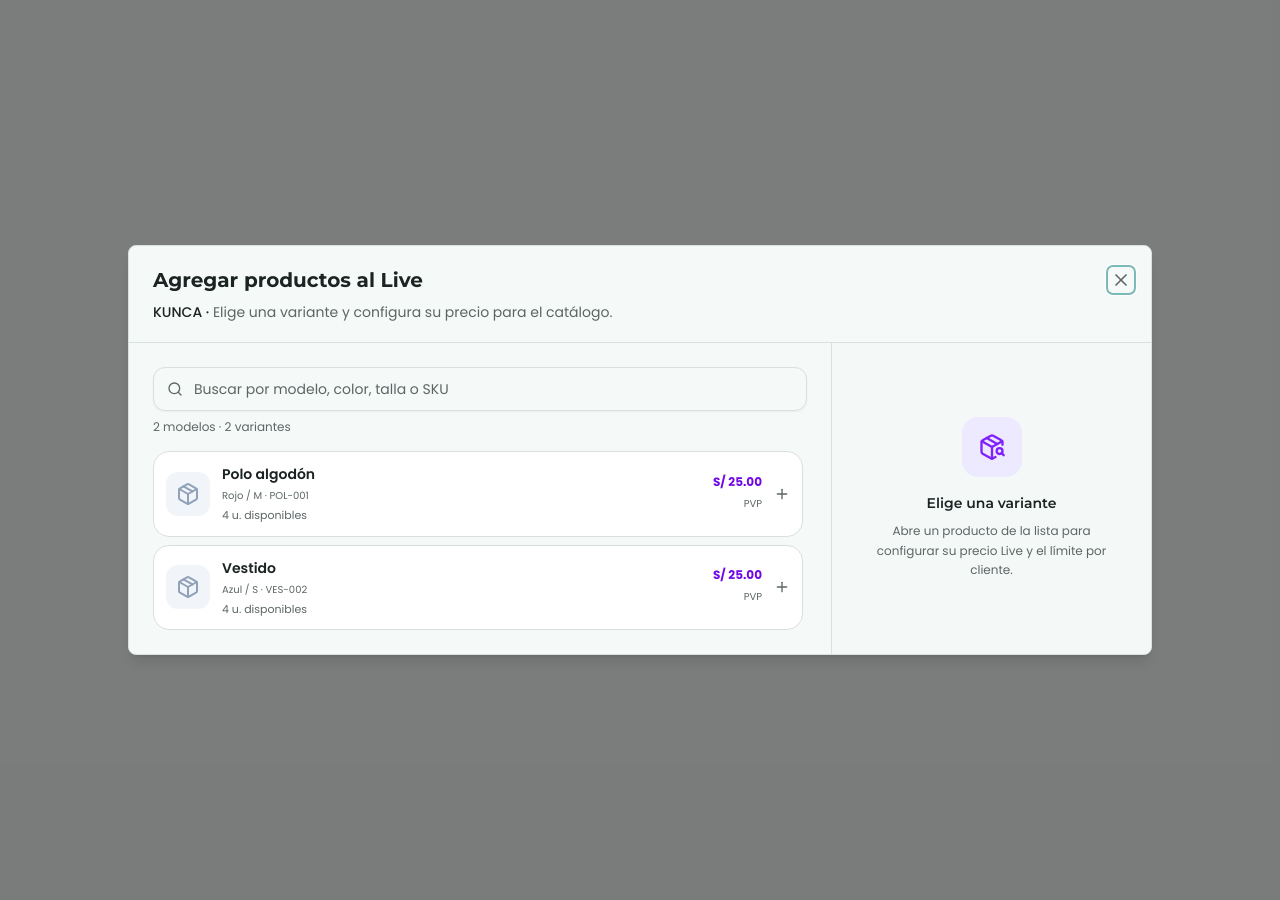
Test: failed save preserves drafts and offers another attempt
The width and height of the screenshot is (1280, 900).
Click the button with aria-label "Configurar Polo algodón, Rojo".
click(188, 494)  # box [154,452,802,536]
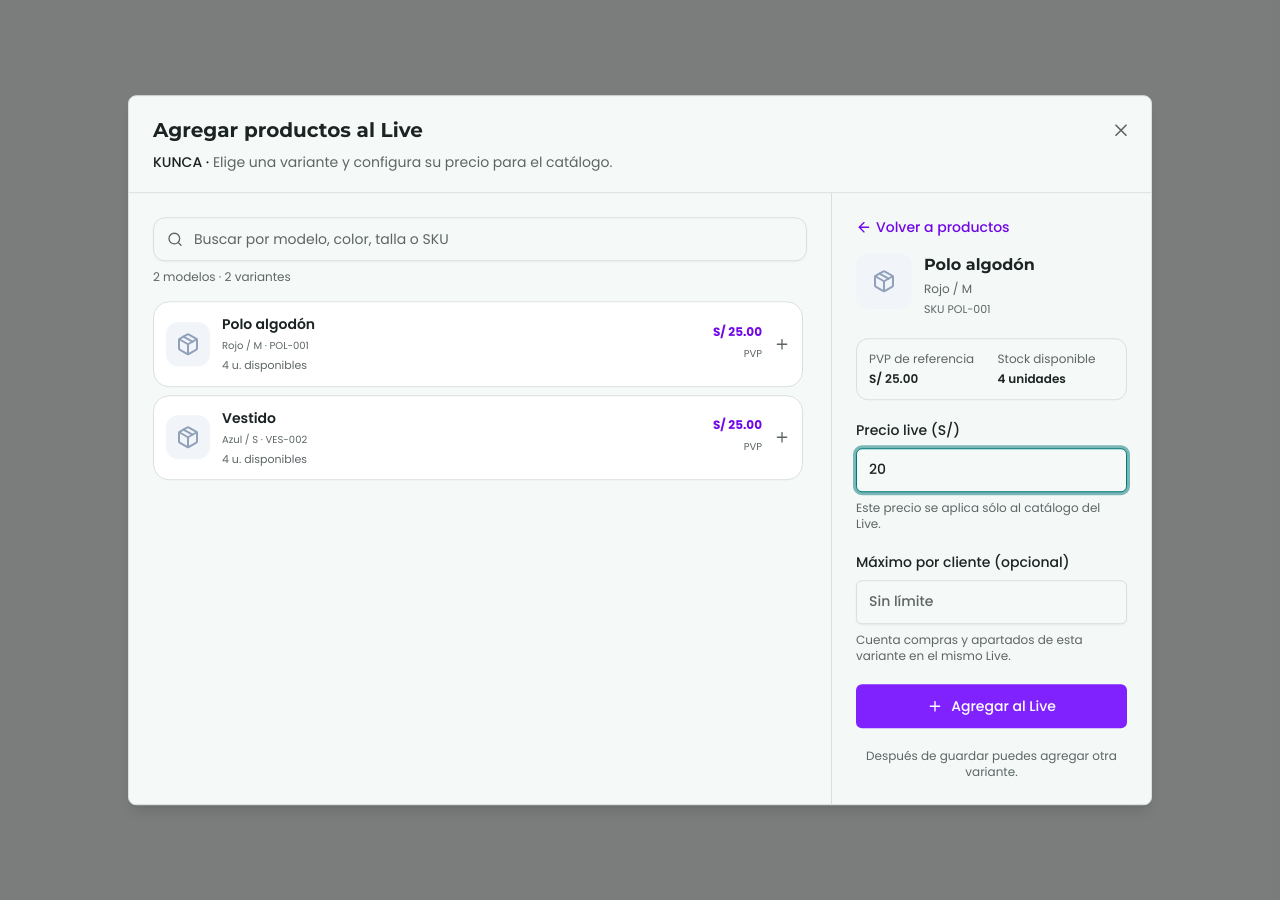
Replace the text in the number field labelled "Precio live" with "19.30" at (992,470), box [856,448,1127,492]
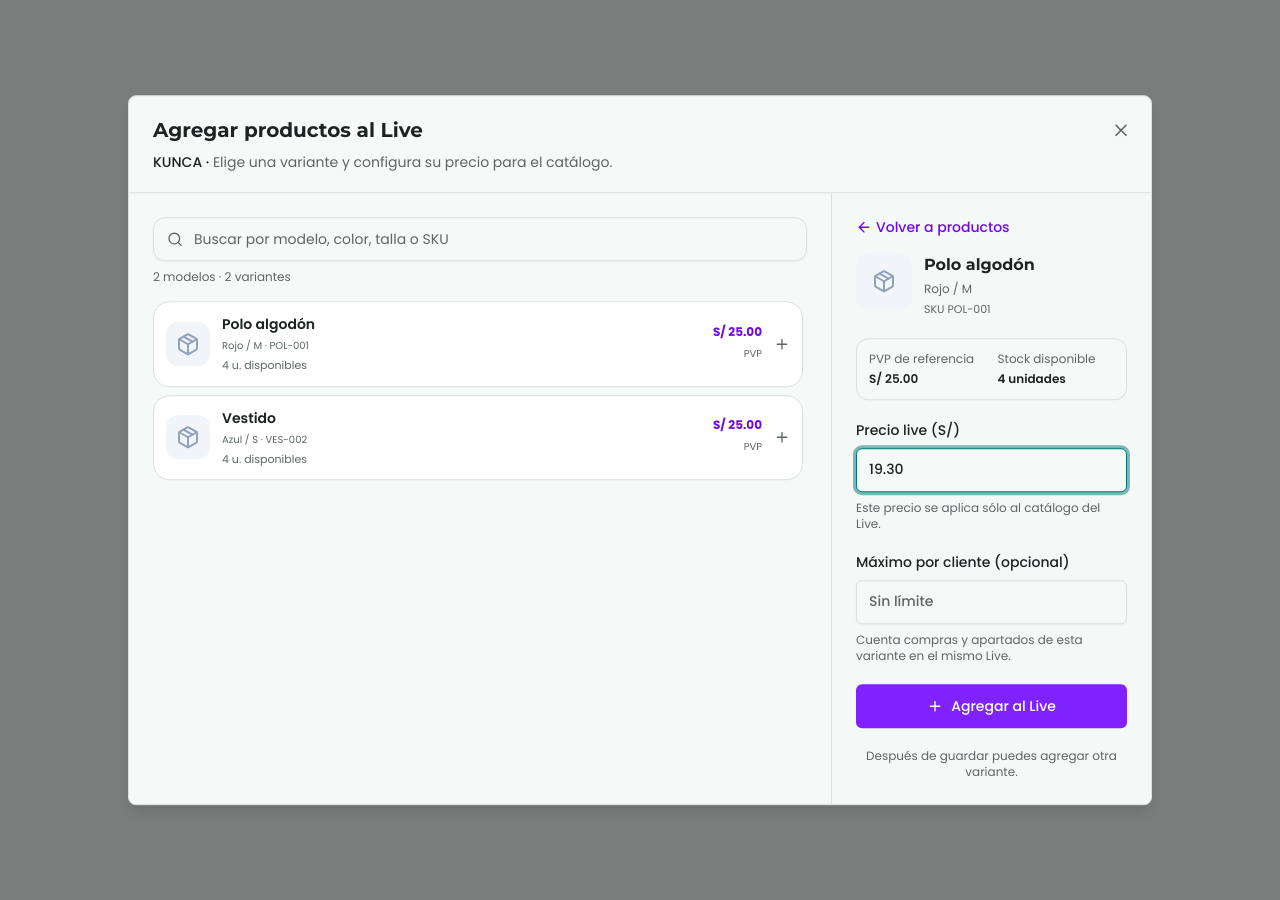
Type "3" into the number field labelled "Máximo por cliente".
click(992, 602); type("3")  # box [856,580,1127,624]
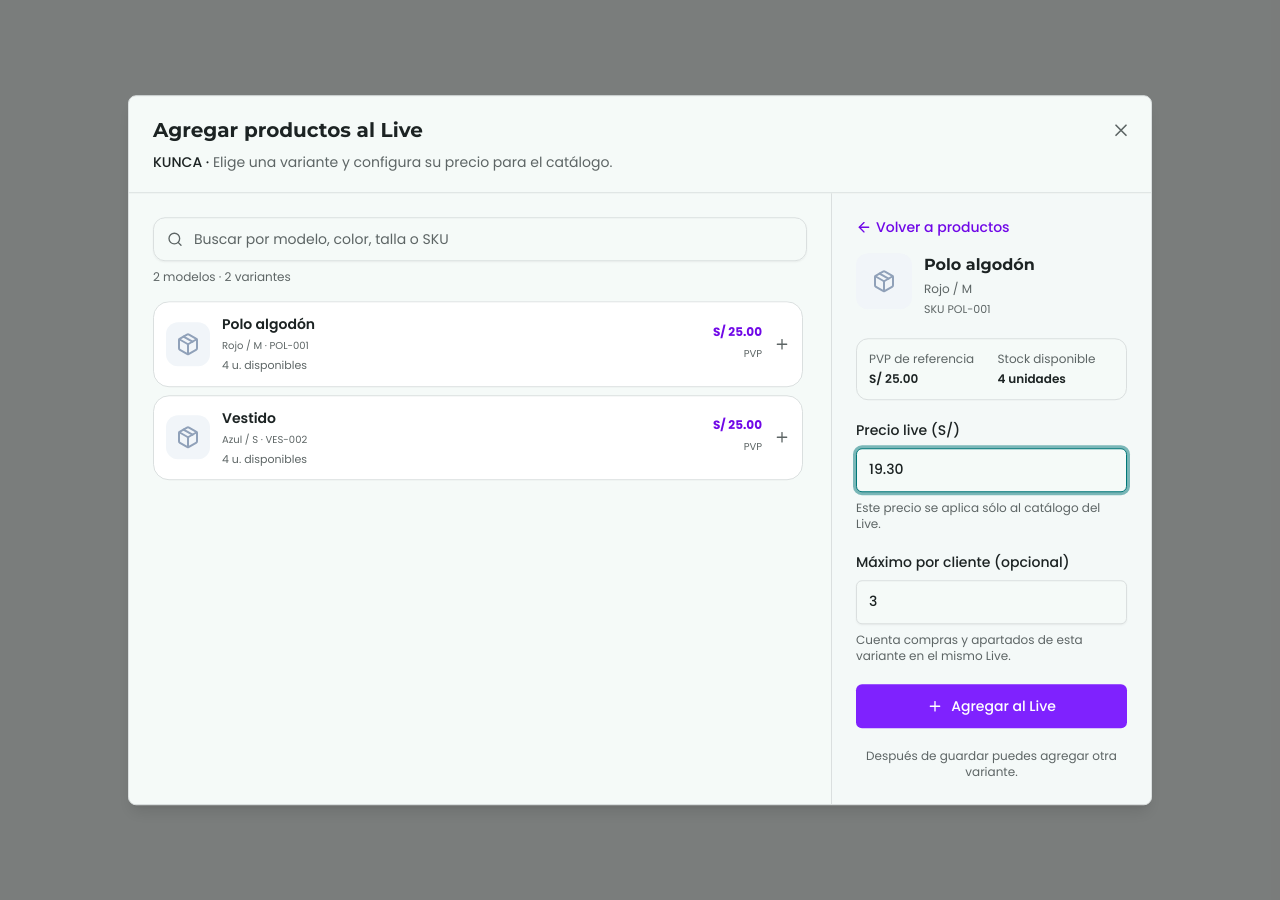
Click the button "Agregar al Live".
click(992, 706)  # box [856,684,1127,728]
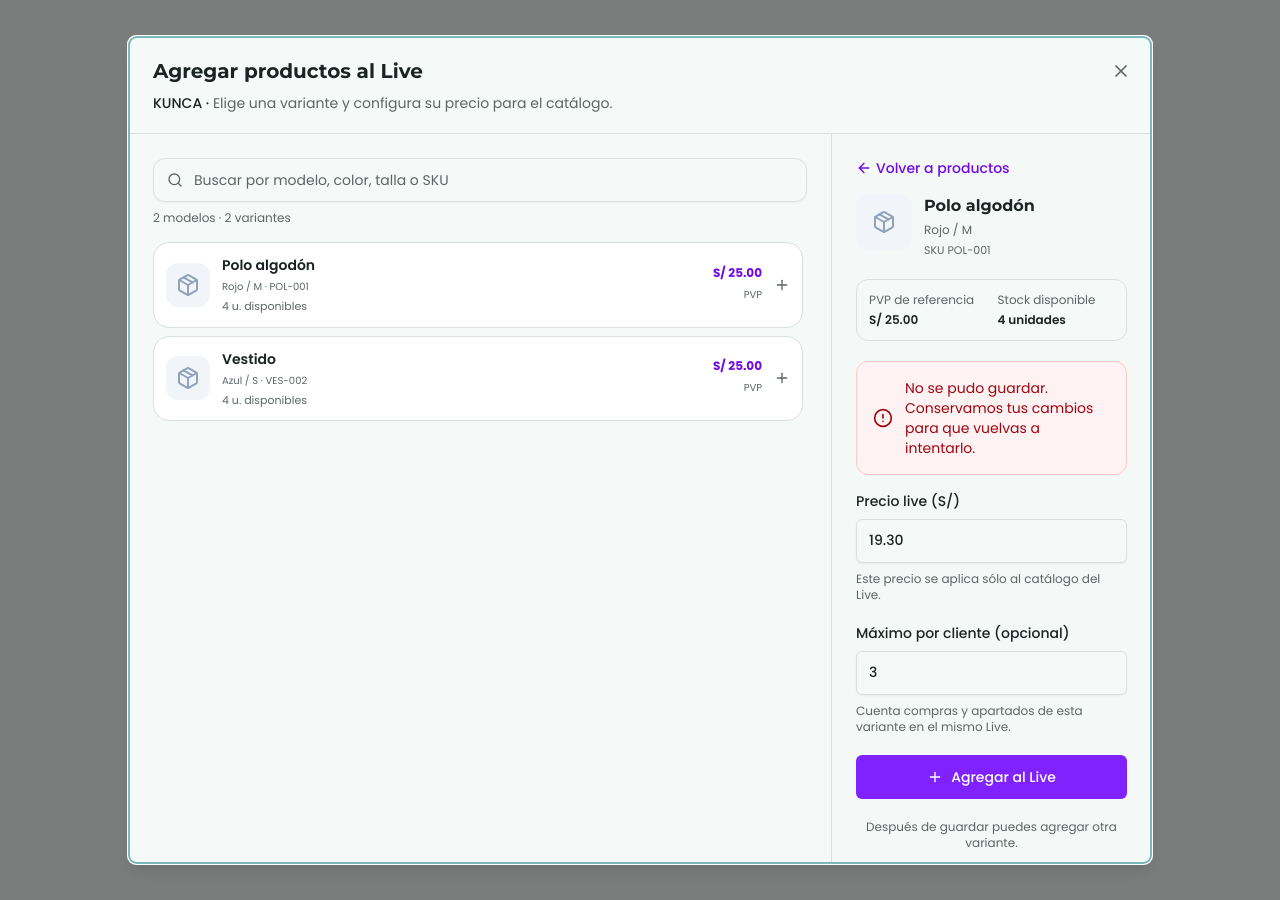
Now the button "Agregar al Live" is enabled, box [856,754,1127,798]
Now the message "No se pudo guardar. Conservamos tus cambios para que vuelvas a intentarlo." is shown, box [856,360,1127,474]
